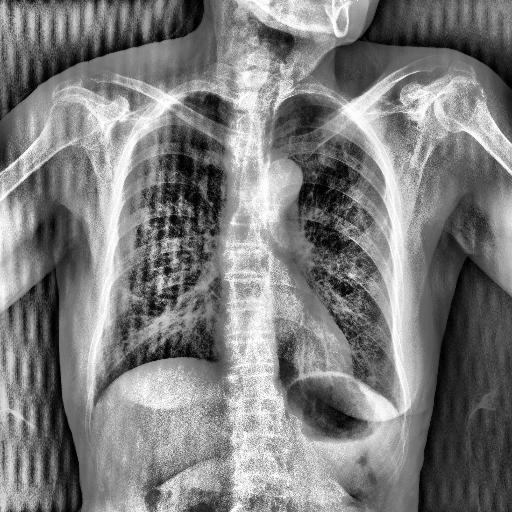0- Aortic enlargement: (252, 155, 315, 211)
13- Pulmonary fibrosis: (110, 280, 148, 310)
5- ILD: (118, 161, 209, 354), (308, 218, 394, 410)
7- Lung Opacity: (112, 285, 148, 308)
